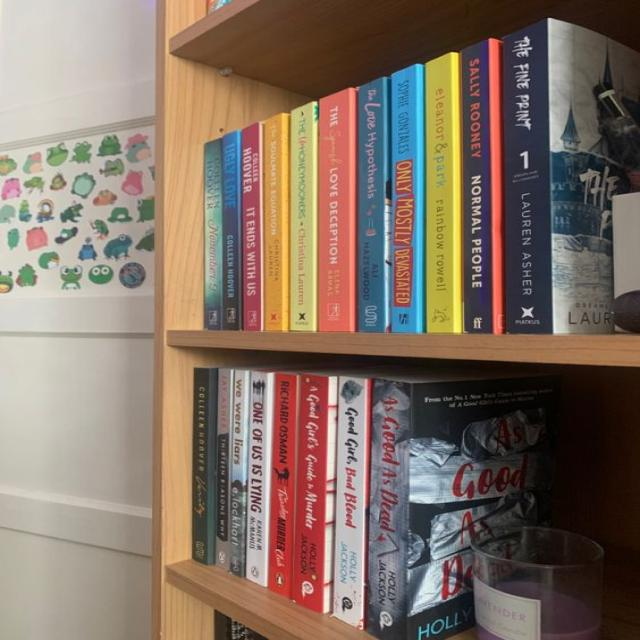book: (502, 20, 550, 334), (289, 374, 337, 612), (367, 380, 410, 639), (426, 53, 462, 333), (461, 41, 494, 333), (332, 378, 370, 629), (389, 66, 424, 333), (318, 89, 356, 332), (357, 77, 388, 332), (267, 373, 297, 598), (289, 101, 317, 331), (263, 113, 289, 330), (224, 370, 249, 576), (192, 369, 217, 563), (246, 371, 268, 586), (242, 123, 262, 330), (222, 130, 242, 329), (204, 138, 224, 329), (214, 369, 233, 569)
candle: (471, 525, 603, 639)
